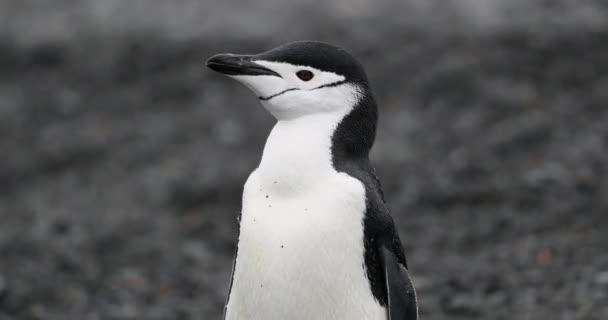Penguin: (207, 42, 416, 319)
